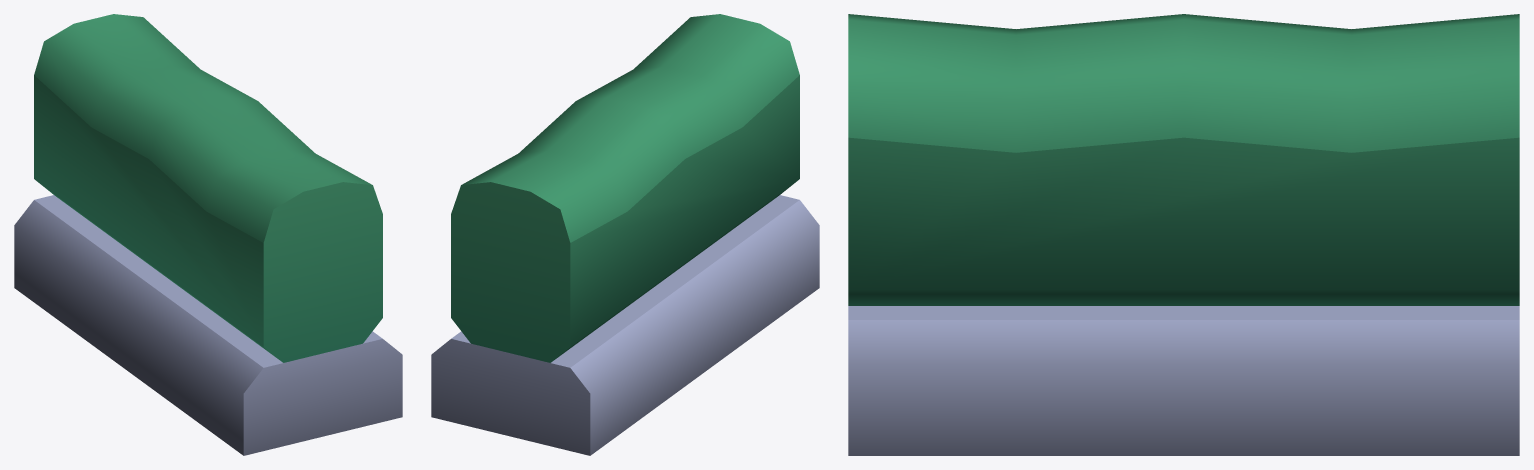
The model's file is T_hedge-large.glb.
3 views of the same model, side by side, from view 1: azimuth 30°, elevation 25°; view 2: azimuth 150°, elevation 25°; view 3: azimuth 270°, elevation 25° (orthographic). The views are drawn at different scales.
Parts seen in each view (by area): view 1: hedge-large; view 2: hedge-large; view 3: hedge-large.
Part boxes in pixels (x1,y1,x2,y2): hedge-large: (14, 14, 402, 455); hedge-large: (431, 14, 819, 455); hedge-large: (848, 14, 1519, 455).
Size of the model in its own units: 0.3999 by 0.6001 by 1.
